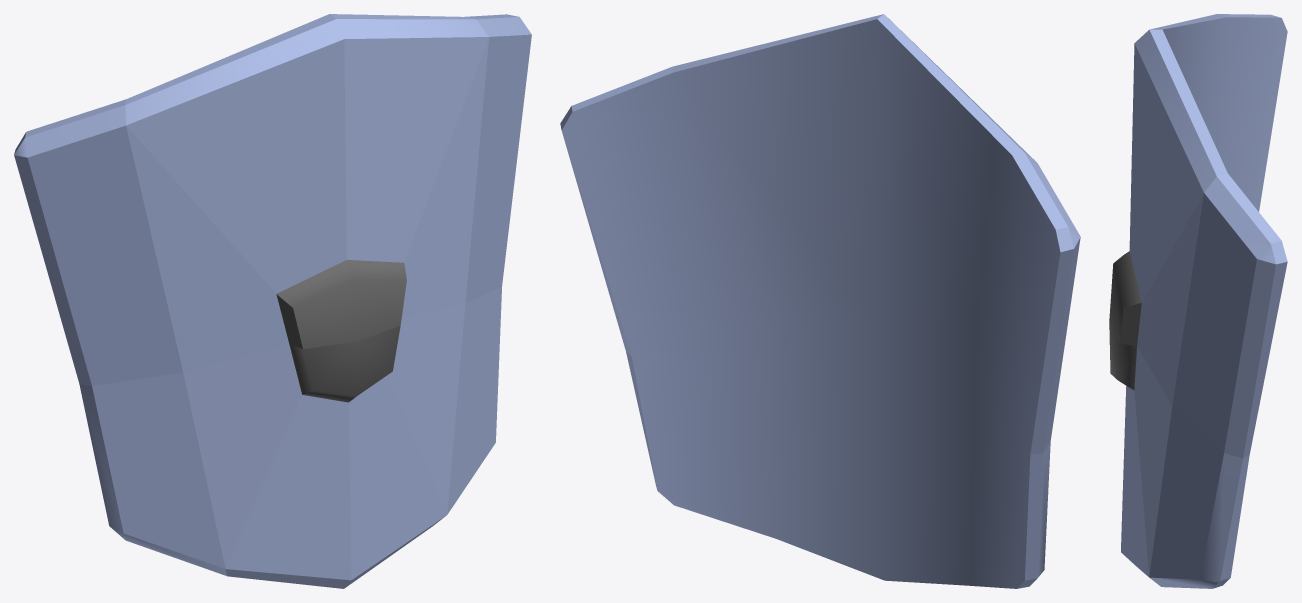
The model's file is Shield.fbx.
3 renders of one model, left to right at view 1: azimuth 30°, elevation 25°; view 2: azimuth 150°, elevation 25°; view 3: azimuth 270°, elevation 25°, orthographic. The views are drawn at different scales.
Visible parts, largest first — view 1: pCube3; view 2: pCube3; view 3: pCube3.
Part boxes in pixels (x1,y1,x2,y2): pCube3: (14,14,531,588); pCube3: (560,14,1080,588); pCube3: (1109,14,1287,588).
Size of the model in its own units: 0.8967 by 0.9458 by 0.2853.
